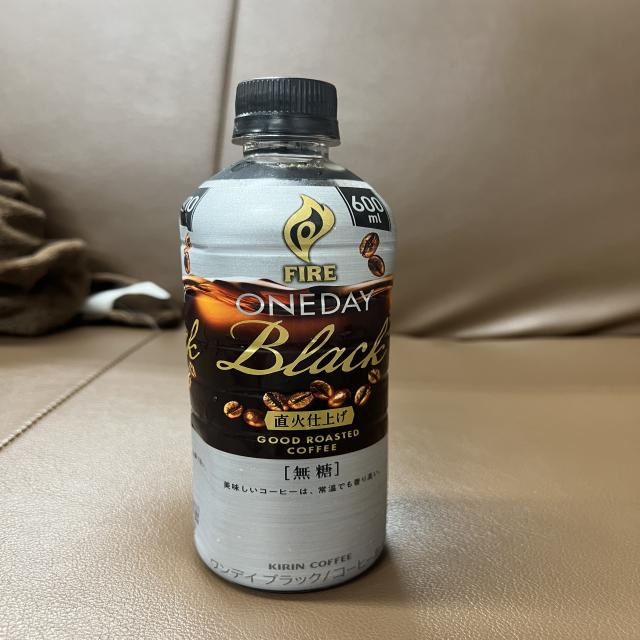coffee-black: (180, 76, 394, 591)
